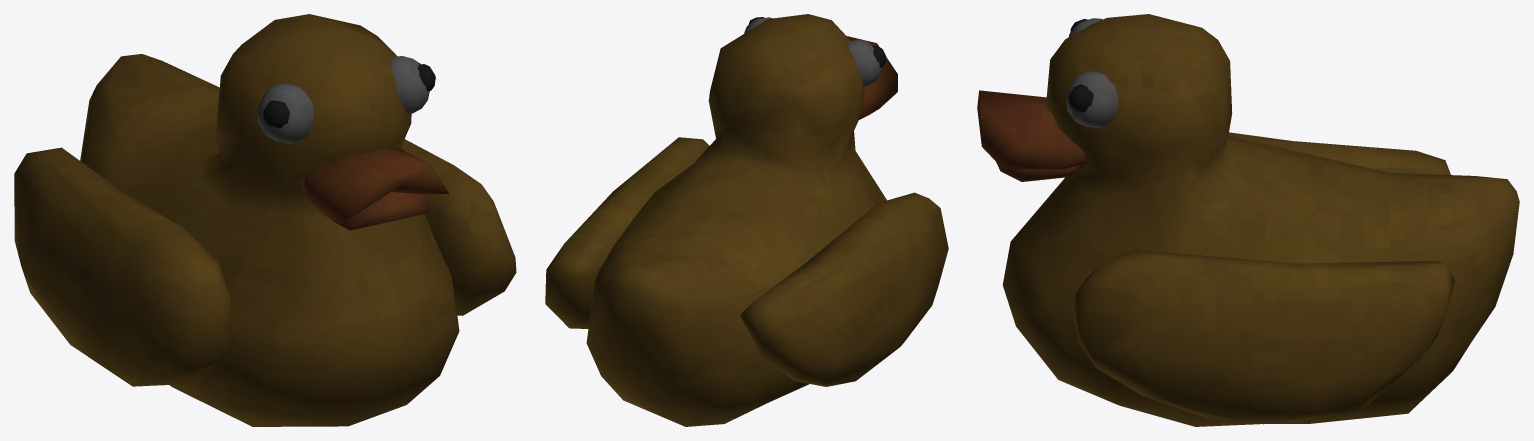
Rendered from rubber_duck_mx_1.glb.
The picture shows the model from 3 angles, left to right: view 1: azimuth 30°, elevation 25°; view 2: azimuth 150°, elevation 25°; view 3: azimuth 270°, elevation 25°; orthographic projection. The views are drawn at different scales.
Visible parts, largest first — view 1: rubber_duck_mx_1; view 2: rubber_duck_mx_1; view 3: rubber_duck_mx_1.
Part boxes in pixels (bbox=[...]): rubber_duck_mx_1: bbox=[14, 14, 516, 426]; rubber_duck_mx_1: bbox=[545, 14, 948, 426]; rubber_duck_mx_1: bbox=[977, 14, 1519, 426].
Size of the model in its own units: 0.1217 by 0.1203 by 0.1655.
Materials: 1 (1 with a texture image).
